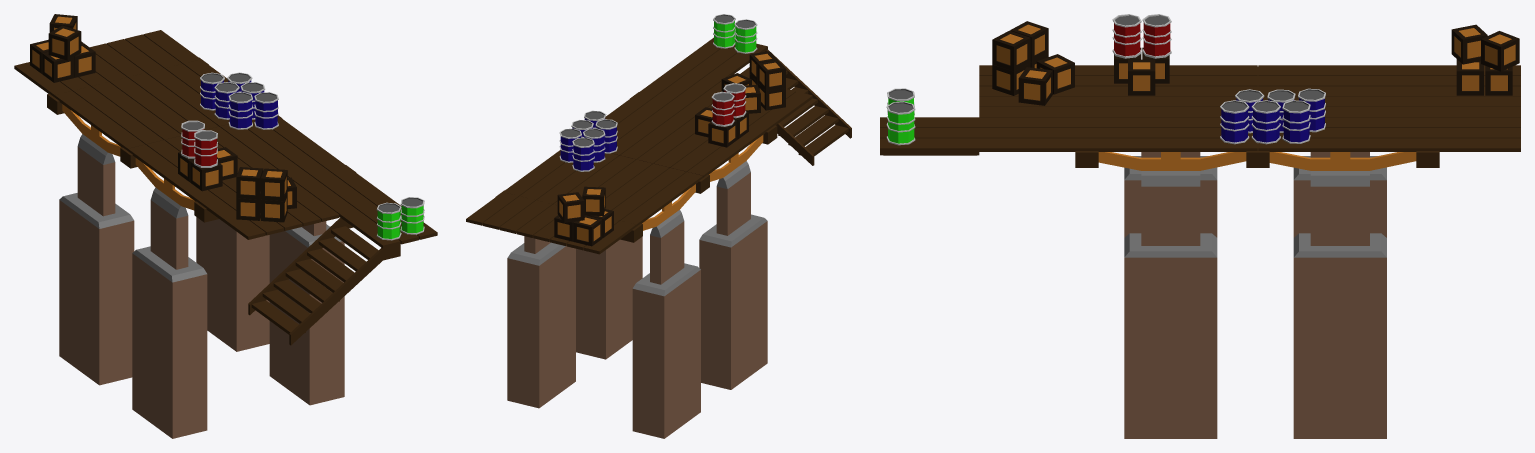
The model's file is DockExport.FBX.
3 views of the same model, side by side, from view 1: azimuth 30°, elevation 25°; view 2: azimuth 150°, elevation 25°; view 3: azimuth 270°, elevation 25° (orthographic). The views are drawn at different scales.
Parts seen in each view (by area): view 1: Support, Wooden_Base, Props_02, Prop_01, Props._04, Props._03, Props._05; view 2: Support, Wooden_Base, Prop_01, Props_02, Props._03, Props._04, Props._05; view 3: Support, Wooden_Base, Props_02, Props._04, Props._03, Prop_01, Props._05.
Boxes of the visible parts, box(x1,y1,x2,y2) form: Support: box(59, 104, 344, 438); Wooden_Base: box(14, 30, 437, 345); Props_02: box(200, 72, 278, 129); Prop_01: box(30, 14, 95, 82); Props._04: box(236, 167, 296, 222); Props._03: box(178, 120, 237, 191); Props._05: box(376, 197, 424, 240); Support: box(507, 135, 767, 438); Wooden_Base: box(466, 37, 851, 254); Prop_01: box(554, 186, 613, 246); Props_02: box(559, 110, 617, 171); Props._03: box(695, 83, 748, 147); Props._04: box(721, 51, 785, 113); Props._05: box(713, 14, 757, 53); Support: box(1098, 152, 1416, 438); Wooden_Base: box(880, 65, 1520, 167); Props_02: box(1220, 88, 1325, 144); Props._04: box(992, 21, 1074, 105); Props._03: box(1112, 14, 1171, 95); Prop_01: box(1451, 24, 1519, 95); Props._05: box(886, 88, 915, 145).
Bounding box in the file's own units: 259 × 423 × 720.
